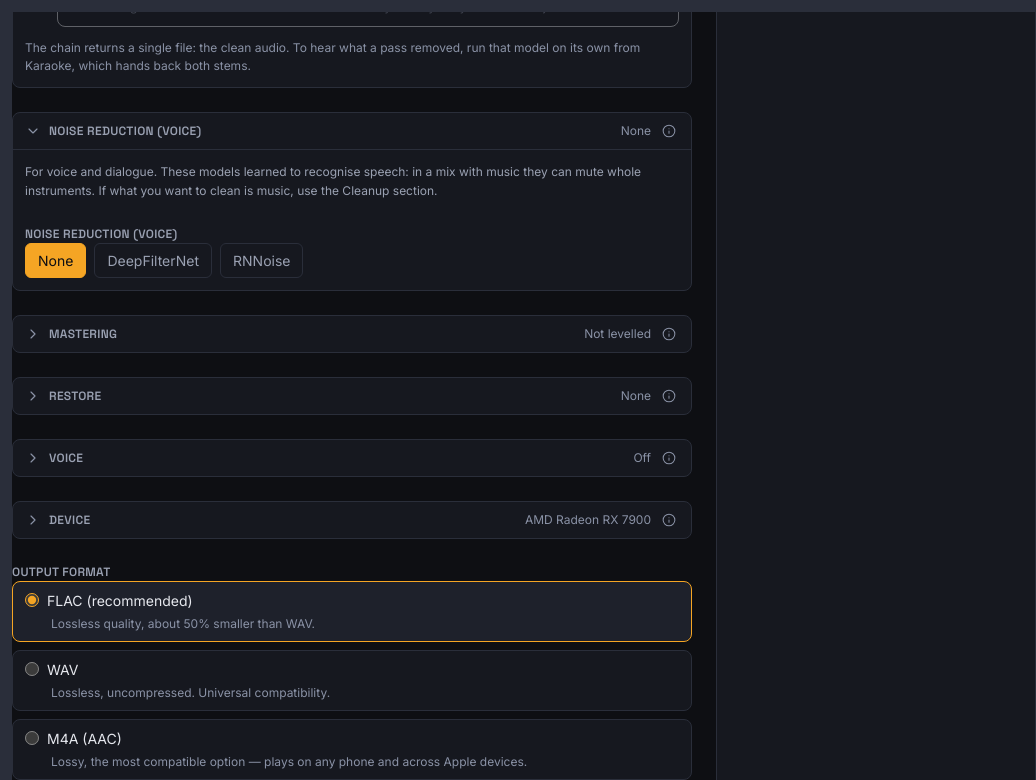
Test: AudioPanel › shows the Apollo restore option with an Experimental badge when restore is available
(page scrolled)
Click the button "Restore None".
click(75, 396)  # box 25,386 -> 651,404
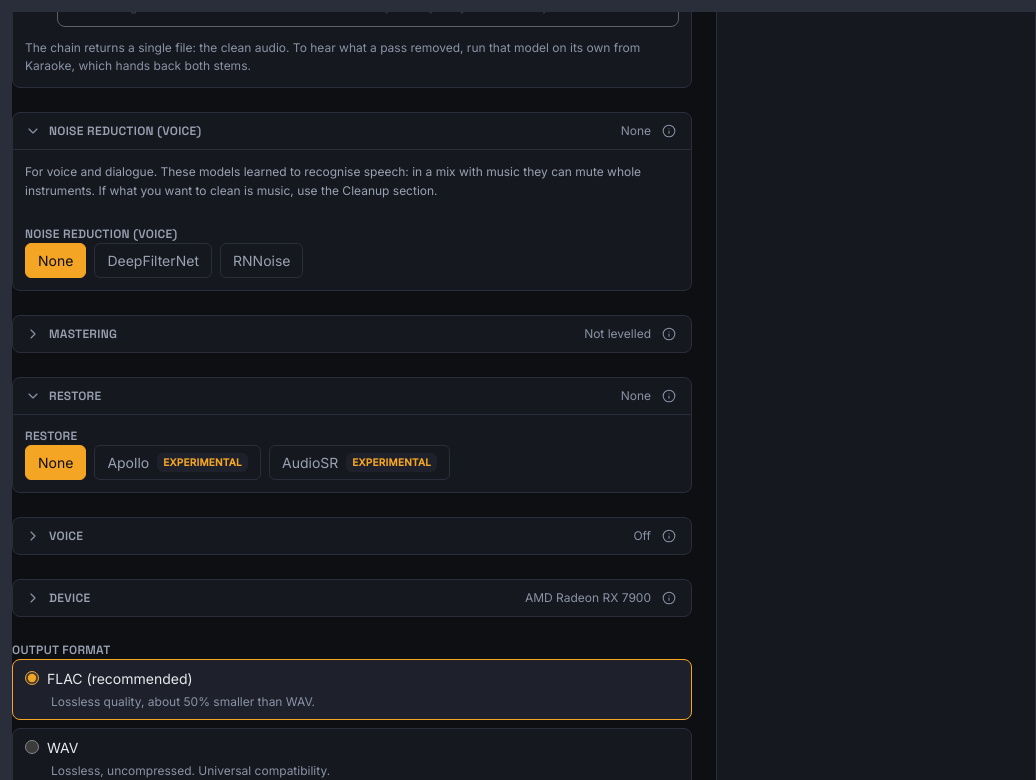
Now the button "Apollo Experimental" is shown, box 94,444 -> 261,480
Now the text "Experimental" is shown 2 times, box 157,452 -> 248,472; 346,452 -> 437,472
